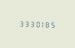eight: (42, 20, 46, 28)
five: (47, 20, 51, 28)
one: (37, 20, 41, 28)
three: (17, 19, 21, 27), (22, 19, 26, 27), (27, 19, 31, 27)
zero: (32, 19, 36, 27)
